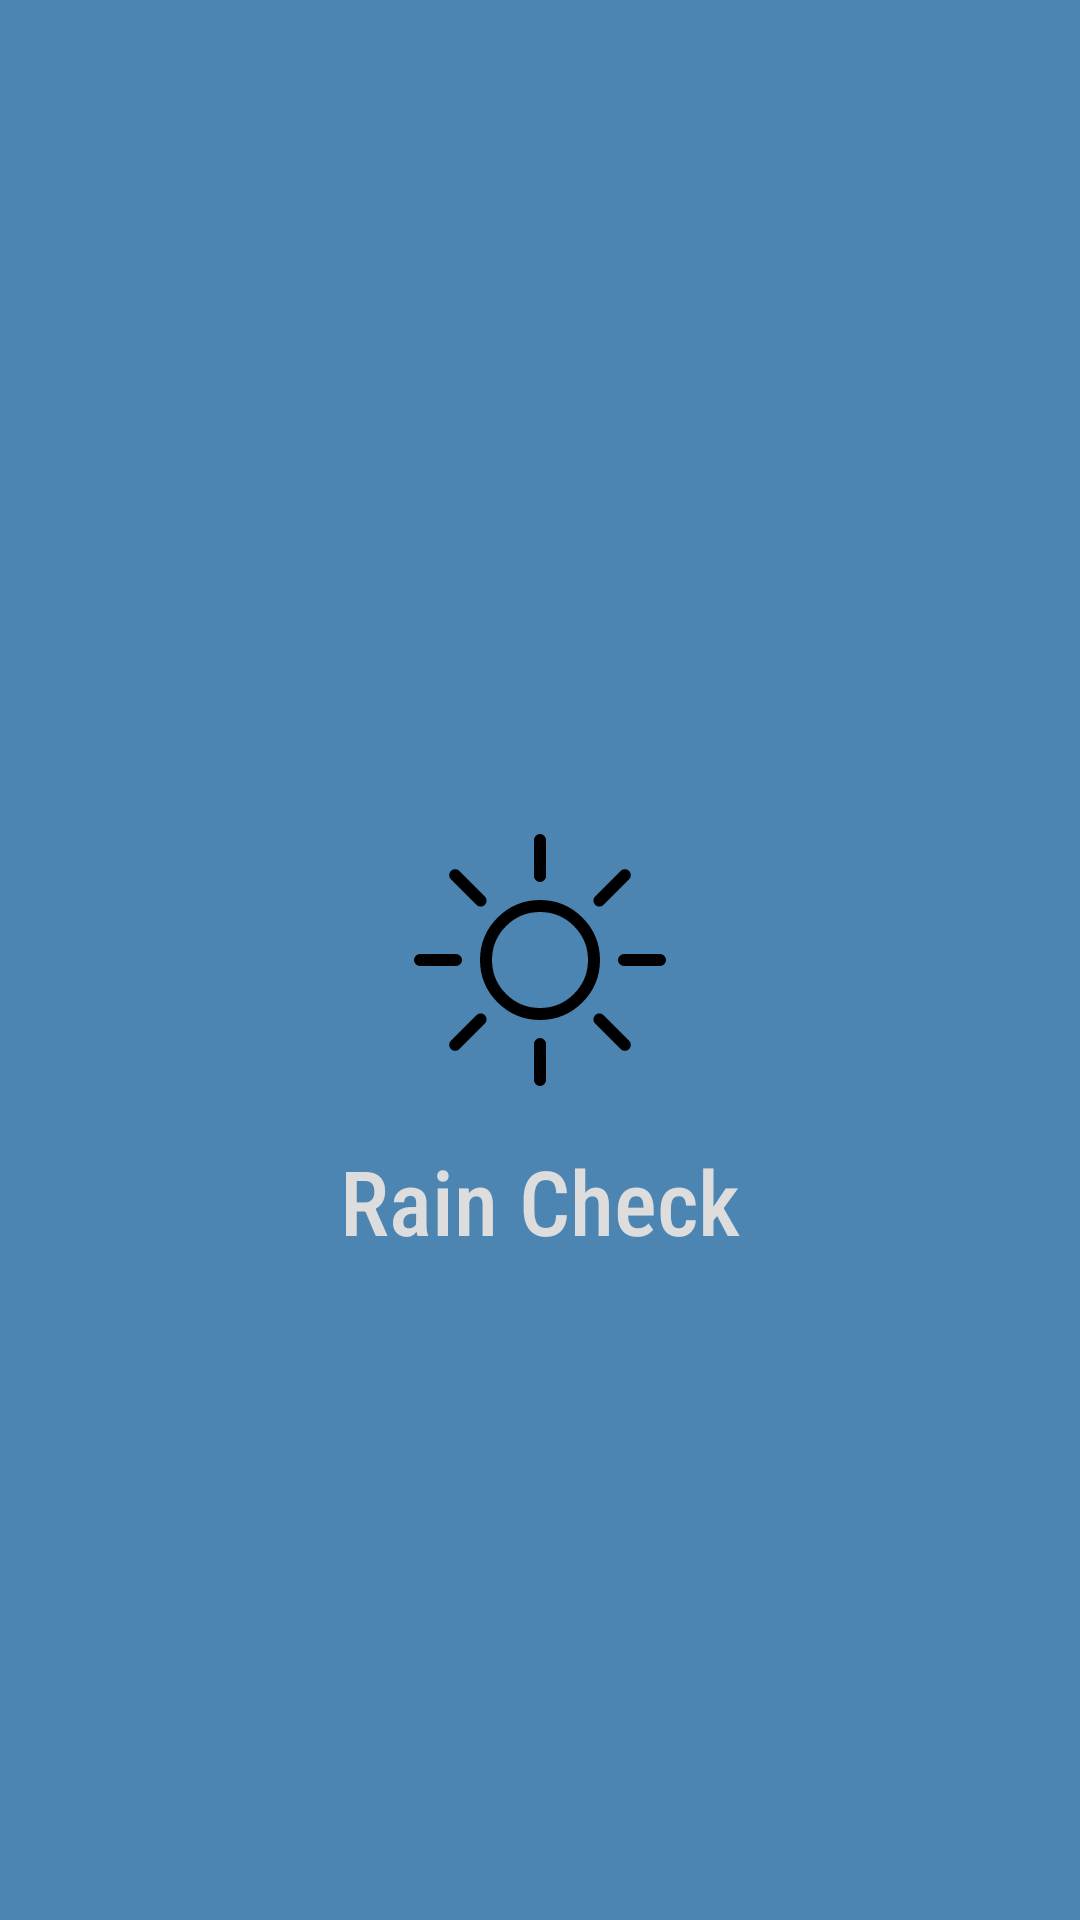

Locate icon controls on the screen. Image size 1080×1920, boxes as bbox=(x1, y1, x2, y2).
sun: bbox=(414, 834, 666, 1086)
